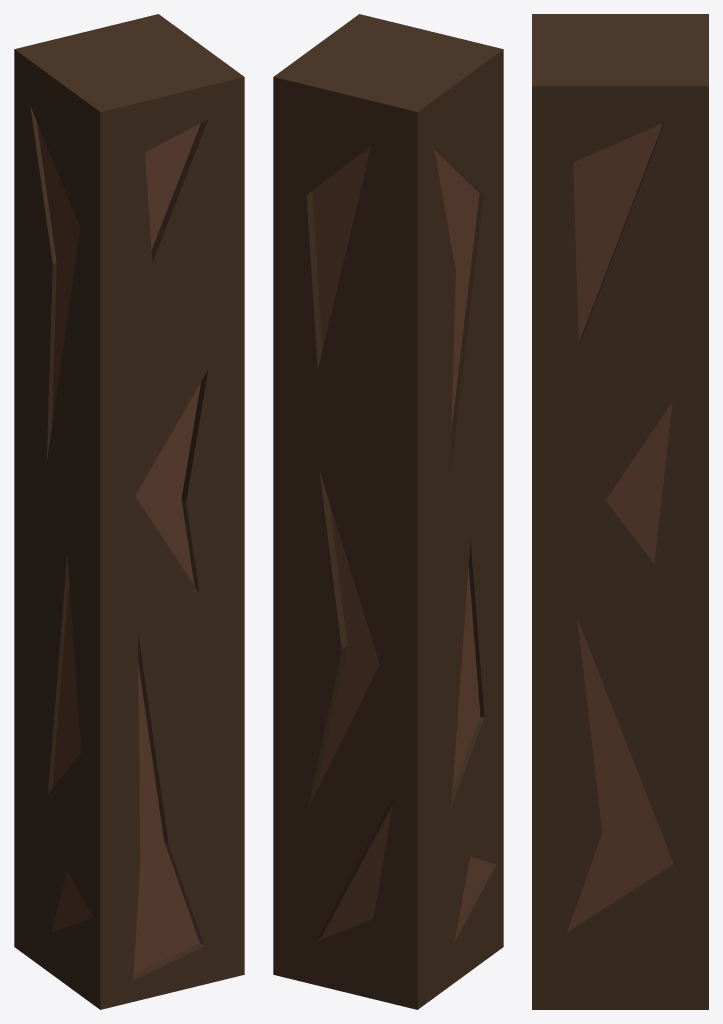
The model's file is Structure bois mine.fbx.
3 views of the same model, side by side, from view 1: azimuth 30°, elevation 25°; view 2: azimuth 150°, elevation 25°; view 3: azimuth 270°, elevation 25° (orthographic). The views are drawn at different scales.
Parts seen in each view (by area): view 1: Cube; view 2: Cube; view 3: Cube.
Boxes of the visible parts, box(x1,y1,x2,y2) form: Cube: box(14, 14, 244, 1009); Cube: box(273, 14, 503, 1009); Cube: box(532, 14, 708, 1009).
Bounding box in the file's own units: 49.47 × 294 × 51.08.
